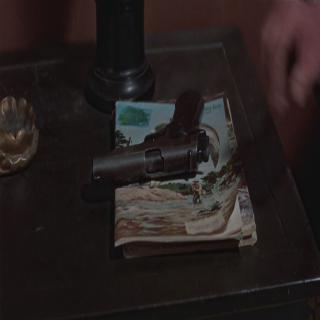gun: (90, 86, 212, 189)
